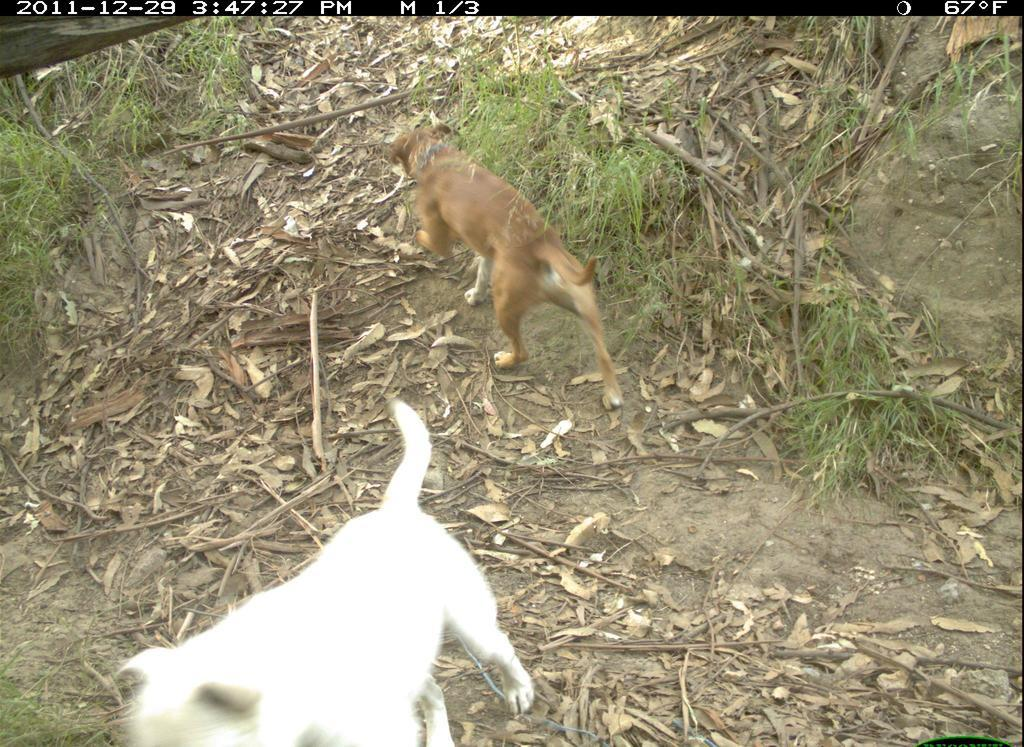dog: (102, 395, 551, 747), (381, 112, 637, 417)
